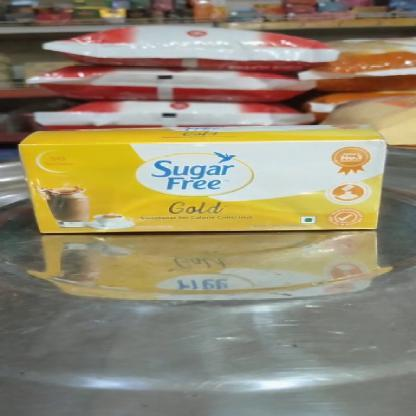SUGAR FREE GOLD SACHET 50: (22, 140, 380, 230)
